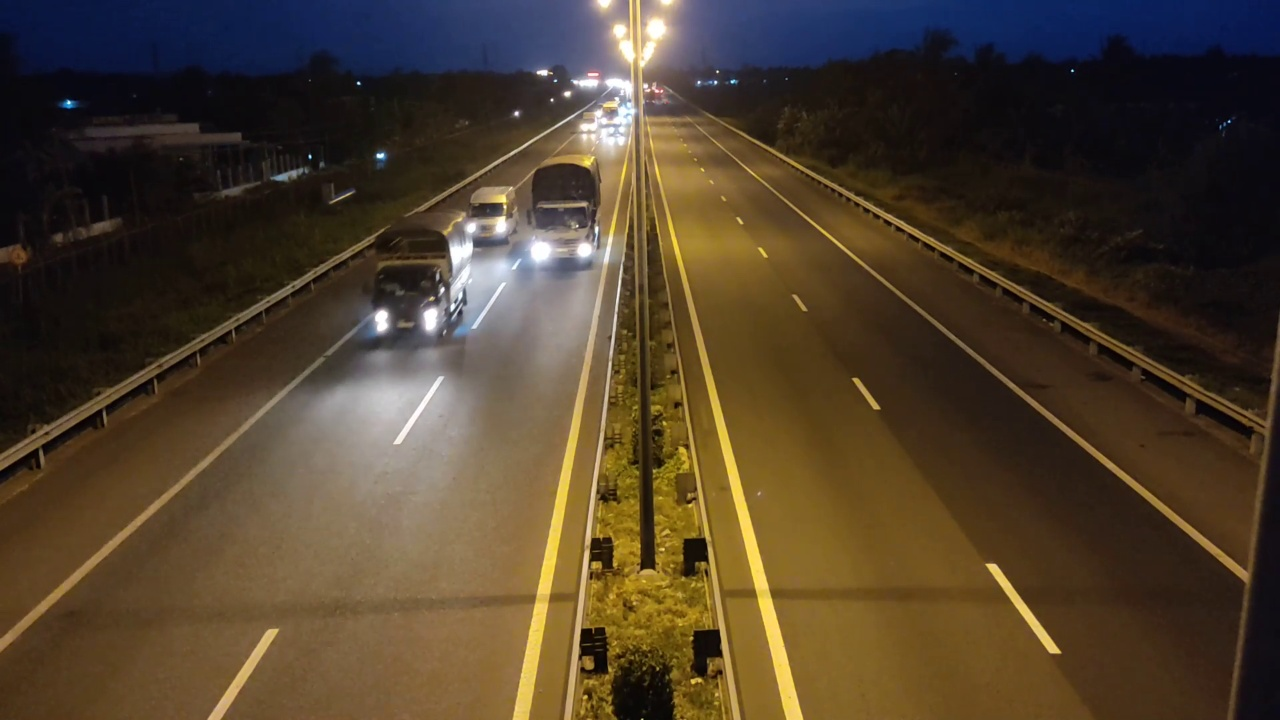car: (467, 185, 519, 247)
truck: (363, 213, 474, 347), (528, 151, 602, 267)
